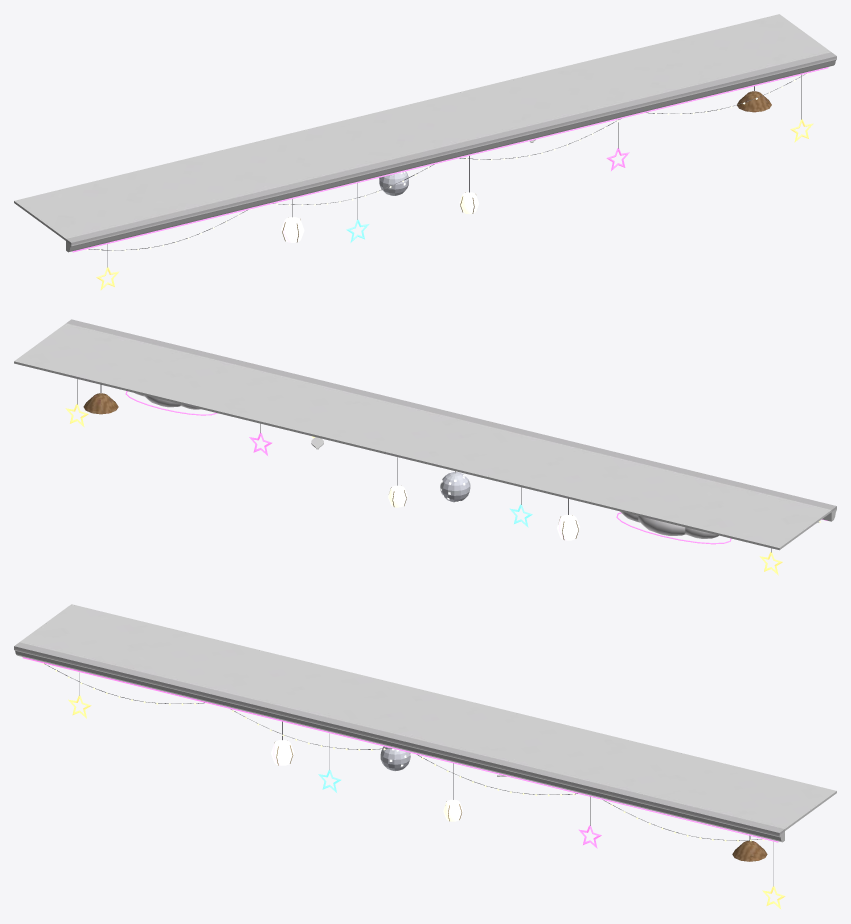
File: ceiling_tiktoker.glb
The picture shows the model from 3 angles, top to bottom: view 1: azimuth 30°, elevation 25°; view 2: azimuth 150°, elevation 25°; view 3: azimuth 330°, elevation 25°; orthographic projection.
Parts seen in each view (by area): view 1: decor, mesh_spin_disco_mesh, mesh_sway_rattan_mesh; view 2: decor, mesh_spin_disco_mesh, mesh_sway_rattan_mesh, mesh_sway_lantern_0_mesh; view 3: decor, mesh_spin_disco_mesh.
Boxes of the visible parts, bbox=[...] form: decor: bbox=[14, 14, 836, 252]; mesh_spin_disco_mesh: bbox=[379, 171, 408, 195]; mesh_sway_rattan_mesh: bbox=[737, 86, 771, 112]; decor: bbox=[14, 319, 836, 550]; mesh_spin_disco_mesh: bbox=[440, 471, 470, 502]; mesh_sway_rattan_mesh: bbox=[83, 385, 118, 414]; mesh_sway_lantern_0_mesh: bbox=[557, 498, 579, 540]; decor: bbox=[14, 604, 836, 842]; mesh_spin_disco_mesh: bbox=[380, 746, 410, 771].
Bounding box in the file's own units: 15 × 1.7 × 1.95.
11 materials, 1 textured.
